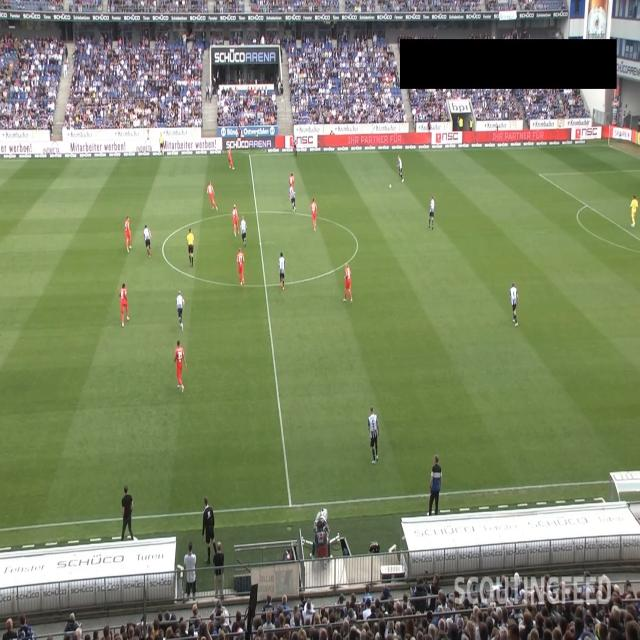ball: (389, 184, 392, 189)
